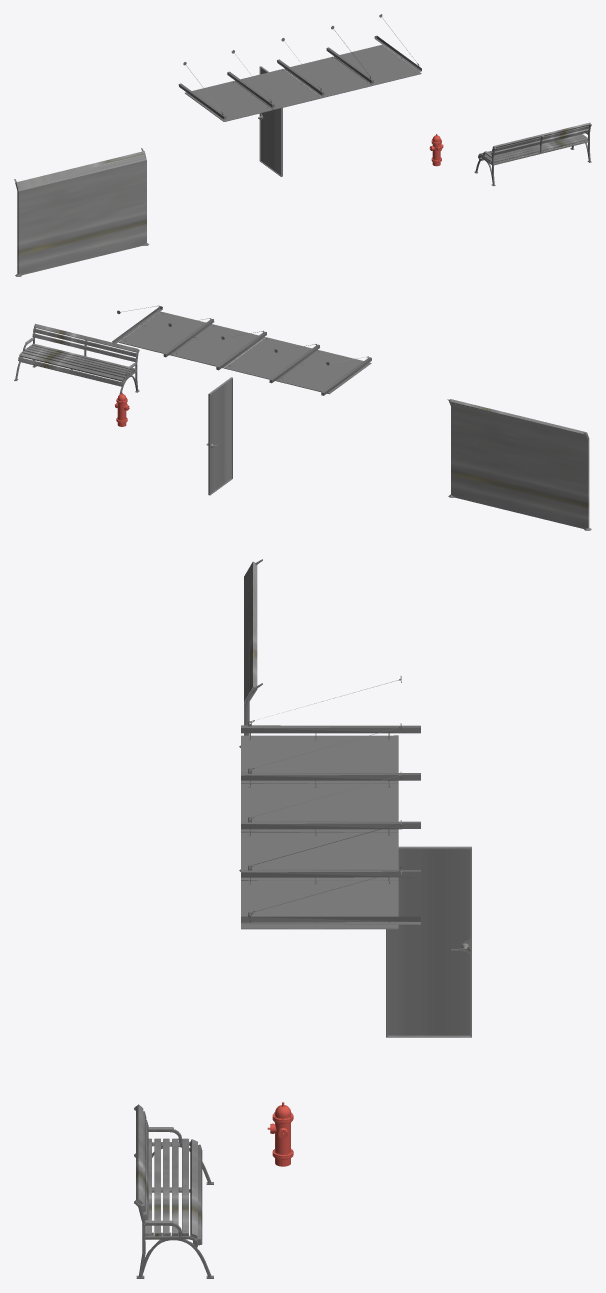
The model's file is ue-ny-native-streetfront.glb.
3 views of the same model, one above another, from view 1: azimuth 30°, elevation 25°; view 2: azimuth 150°, elevation 25°; view 3: azimuth 270°, elevation 25° (orthographic). The views are drawn at different scales.
Visible parts, largest first — view 1: UE_NATIVE_fence, UE_NATIVE_awning, UE_NATIVE_bench, UE_NATIVE_door; view 2: UE_NATIVE_fence, UE_NATIVE_awning, UE_NATIVE_bench, UE_NATIVE_door, UE_NATIVE_hydrant; view 3: UE_NATIVE_awning, UE_NATIVE_door, UE_NATIVE_bench, UE_NATIVE_fence, UE_NATIVE_hydrant.
Part boxes in pixels (bbox=[...]): UE_NATIVE_fence: bbox=[14, 148, 149, 276]; UE_NATIVE_awning: bbox=[178, 14, 421, 121]; UE_NATIVE_bench: bbox=[474, 122, 591, 186]; UE_NATIVE_door: bbox=[258, 66, 282, 176]; UE_NATIVE_fence: bbox=[447, 399, 591, 530]; UE_NATIVE_awning: bbox=[112, 305, 371, 395]; UE_NATIVE_bench: bbox=[14, 323, 139, 394]; UE_NATIVE_door: bbox=[206, 377, 232, 495]; UE_NATIVE_hydrant: bbox=[115, 392, 129, 426]; UE_NATIVE_awning: bbox=[241, 676, 420, 929]; UE_NATIVE_door: bbox=[386, 846, 471, 1037]; UE_NATIVE_bench: bbox=[134, 1104, 213, 1278]; UE_NATIVE_fence: bbox=[239, 559, 262, 871]; UE_NATIVE_hydrant: bbox=[267, 1102, 293, 1166].
Size of the model in its own units: 17.37 by 4.1 by 4.64.
Materials: 2 (1 with a texture image).
